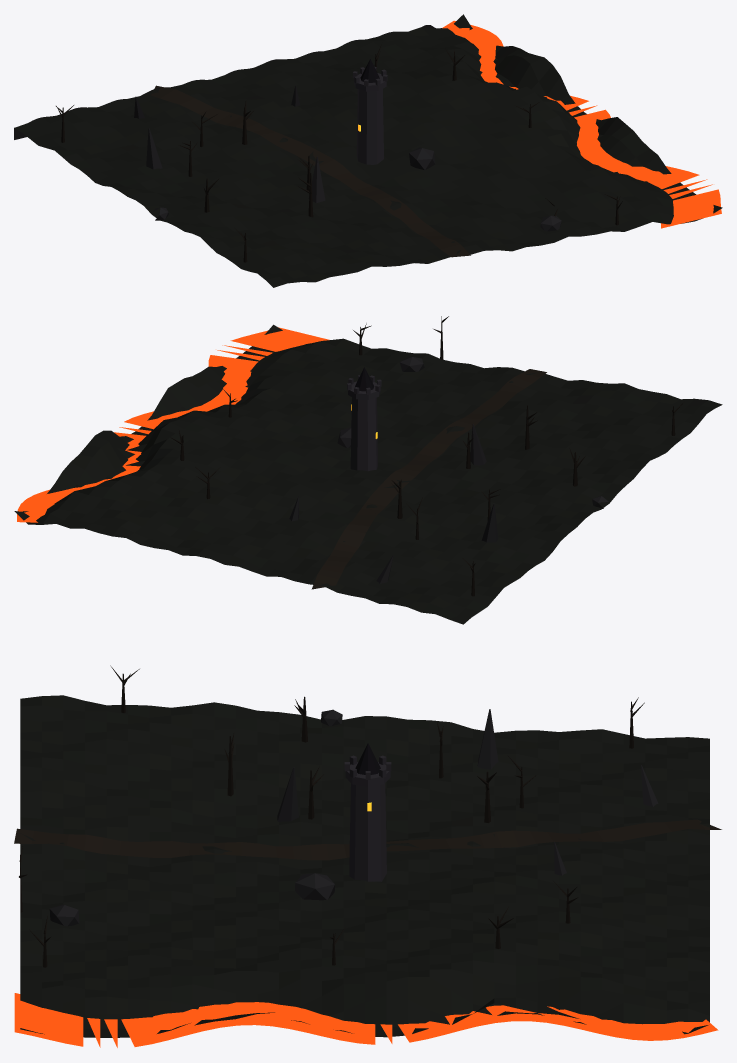
File: chunk-3-5.glb
3 renders of one model, top to bottom at view 1: azimuth 30°, elevation 25°; view 2: azimuth 150°, elevation 25°; view 3: azimuth 270°, elevation 25°, orthographic. The views are drawn at different scales.
Visible parts, largest first — view 1: Ash_Ground, Lava, Dirt_Road, Castle_Stone, Dark_Rock, Dead_Wood; view 2: Ash_Ground, Lava, Dirt_Road, Castle_Stone, Dead_Wood, Dark_Rock; view 3: Ash_Ground, Lava, Dirt_Road, Castle_Stone, Dark_Rock, Dead_Wood.
Part boxes in pixels (x1=…): Ash_Ground: x1=14, y1=14, x2=722, y2=287; Lava: x1=442, y1=20, x2=721, y2=228; Dirt_Road: x1=151, y1=85, x2=470, y2=257; Castle_Stone: x1=353, y1=66, x2=387, y2=164; Dark_Rock: x1=134, y1=85, x2=561, y2=231; Dead_Wood: x1=56, y1=44, x2=622, y2=262; Ash_Ground: x1=14, y1=324, x2=722, y2=624; Lava: x1=17, y1=327, x2=329, y2=522; Dirt_Road: x1=311, y1=369, x2=546, y2=589; Castle_Stone: x1=347, y1=375, x2=381, y2=471; Dead_Wood: x1=170, y1=316, x2=684, y2=596; Dark_Rock: x1=289, y1=357, x2=608, y2=583; Ash_Ground: x1=20, y1=695, x2=709, y2=1037; Lava: x1=14, y1=993, x2=718, y2=1047; Dirt_Road: x1=14, y1=819, x2=721, y2=860; Castle_Stone: x1=344, y1=755, x2=391, y2=881; Dark_Rock: x1=49, y1=709, x2=658, y2=926; Dead_Wood: x1=19, y1=665, x2=644, y2=967.
Bounding box in the file's own units: 84.67 × 20.45 × 82.25.
